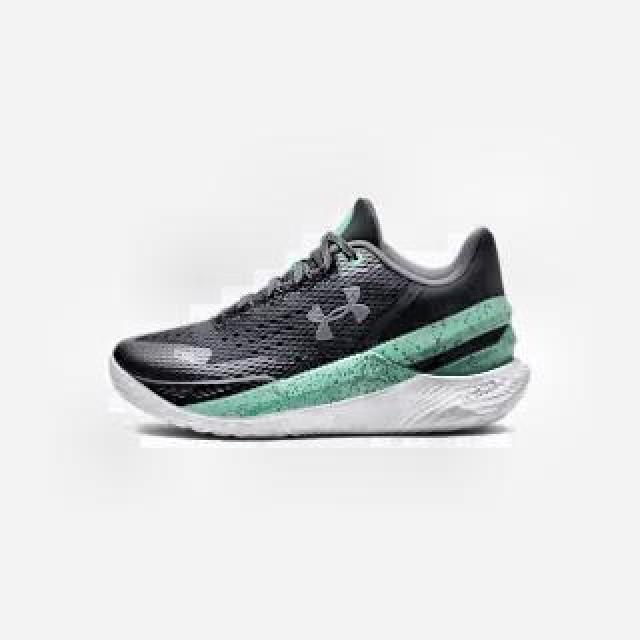shoe: (108, 198, 536, 438)
